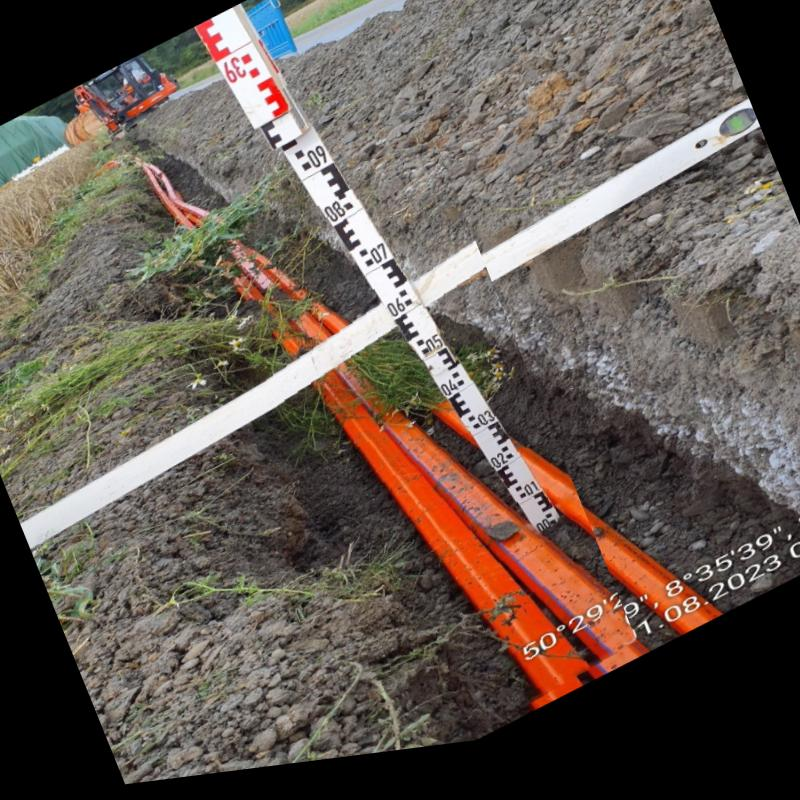Orang-Speednetrohrchen: (214, 253, 637, 712)
